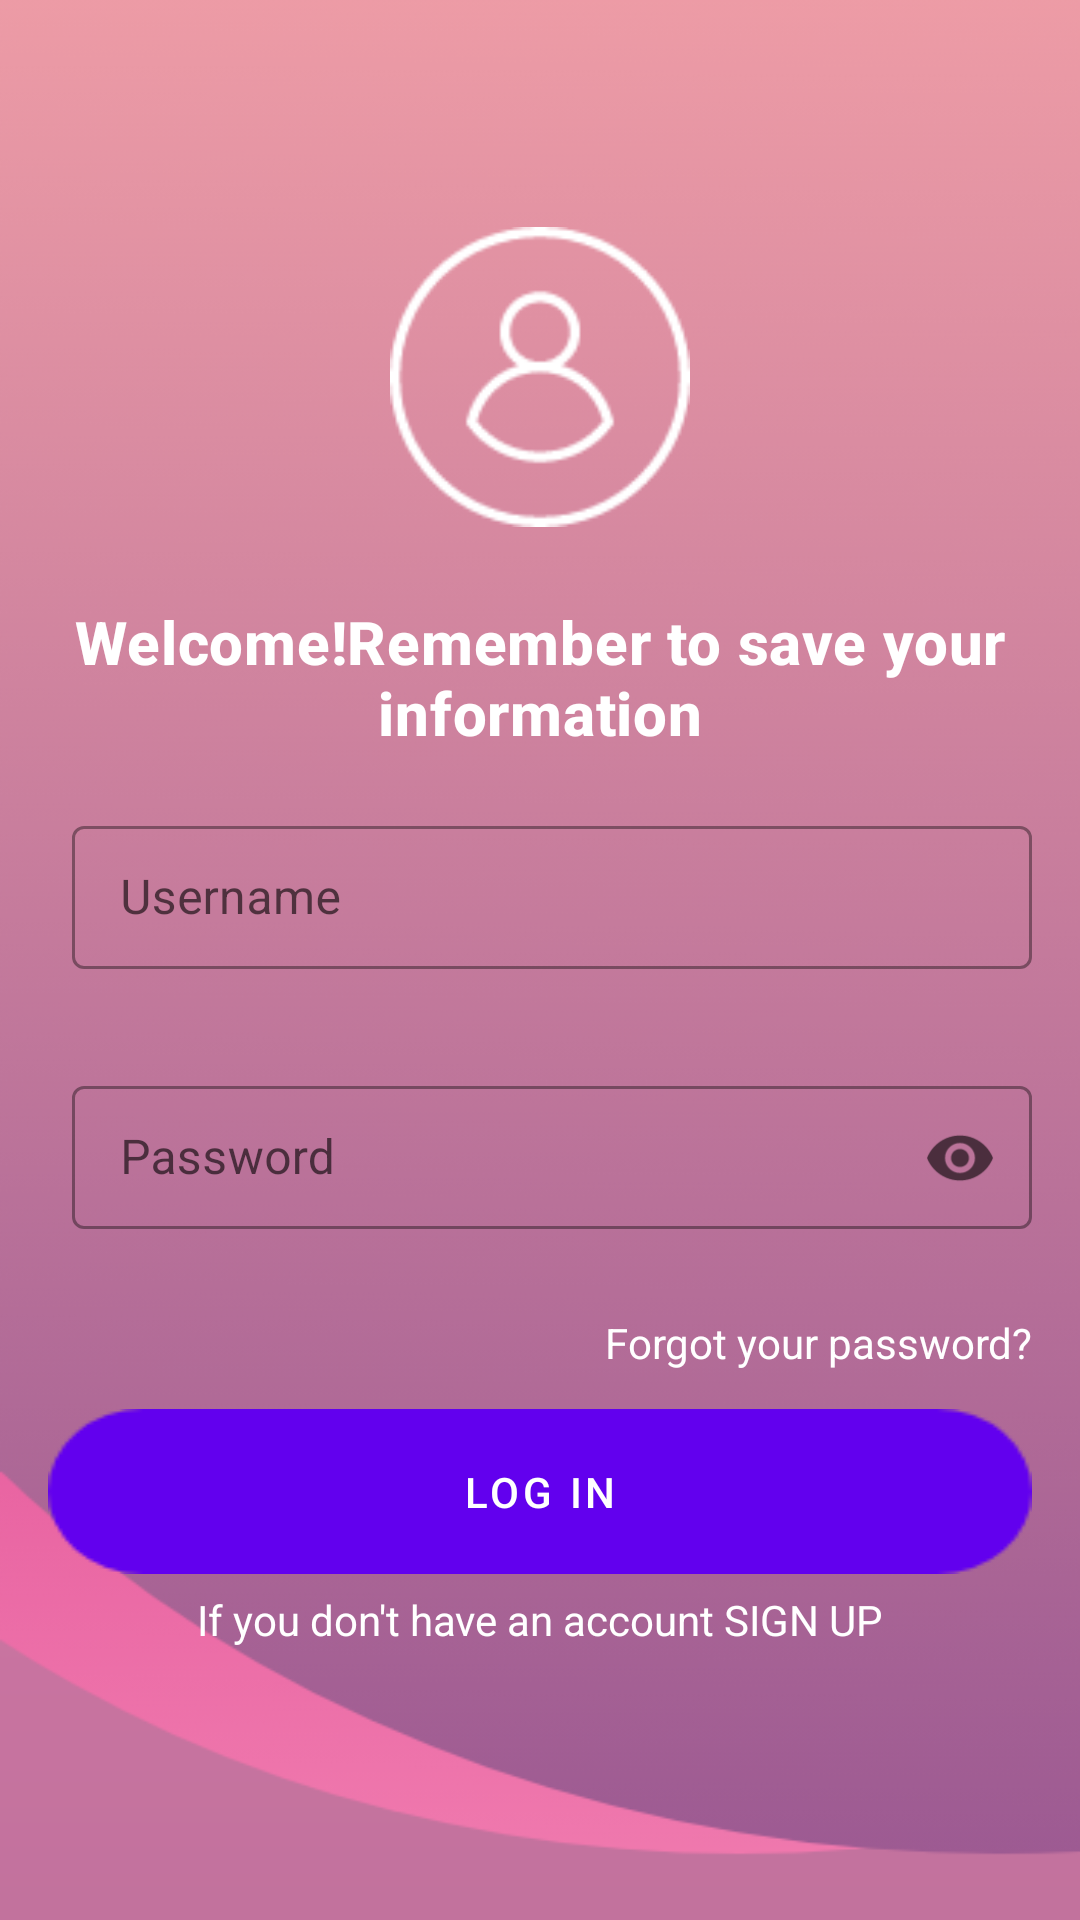

Screen size 1080*1920. Icon name, then its center in pixels as [x,y]:
bitmap user: [540,377]
